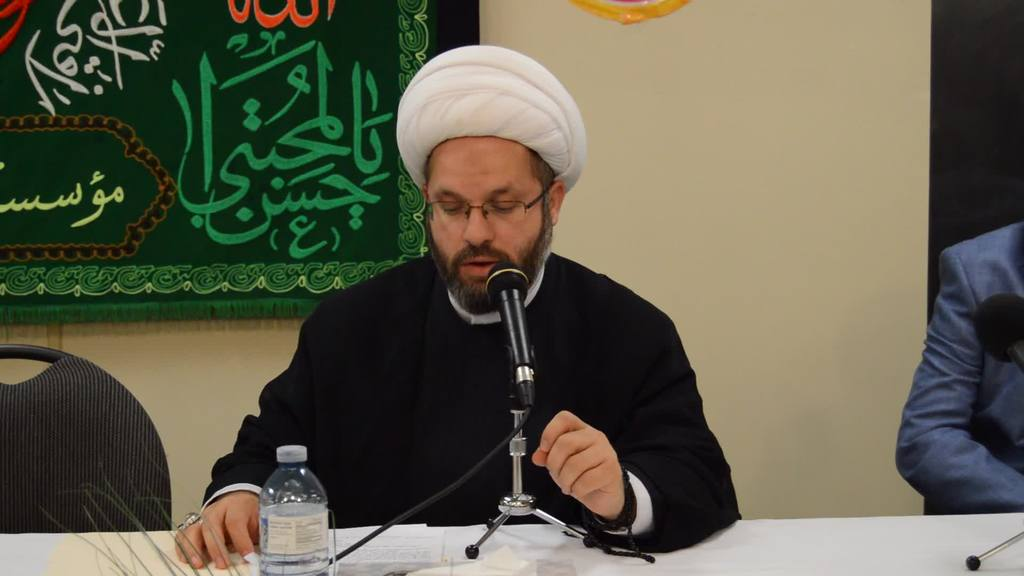Person: (173, 46, 741, 568), (894, 219, 1023, 516)
